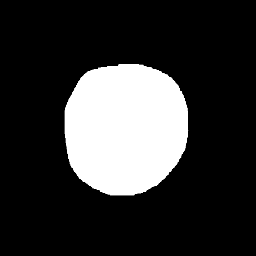mass: (62, 64, 191, 181)
